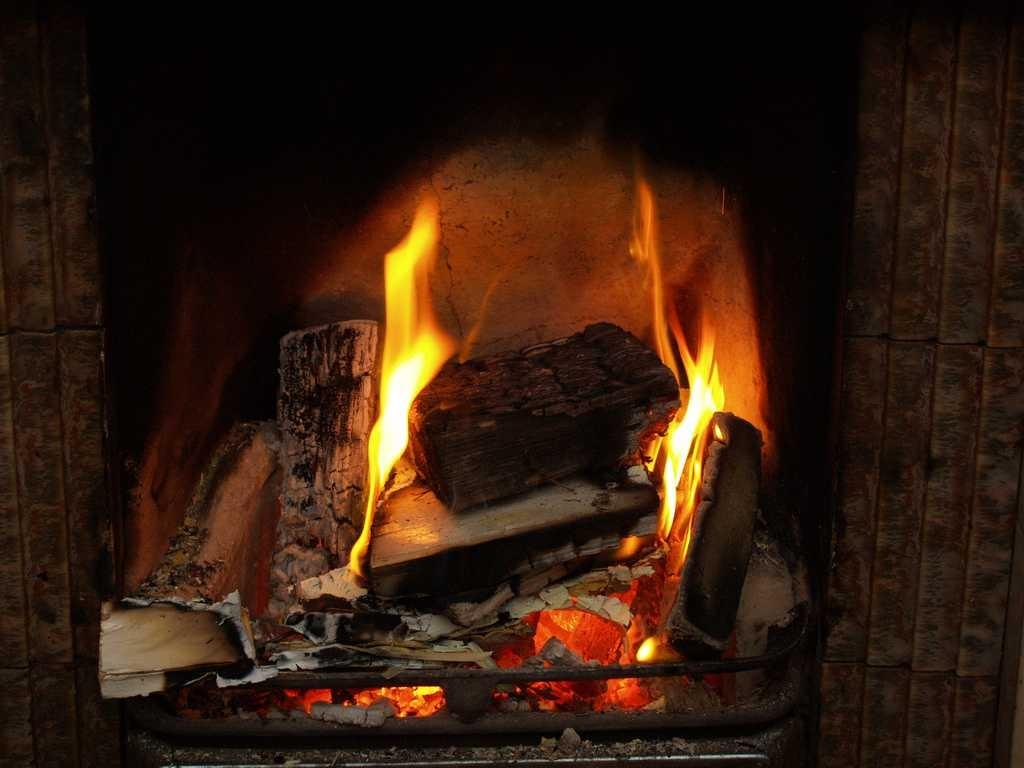fire: (388, 234, 446, 476), (662, 344, 730, 498)
